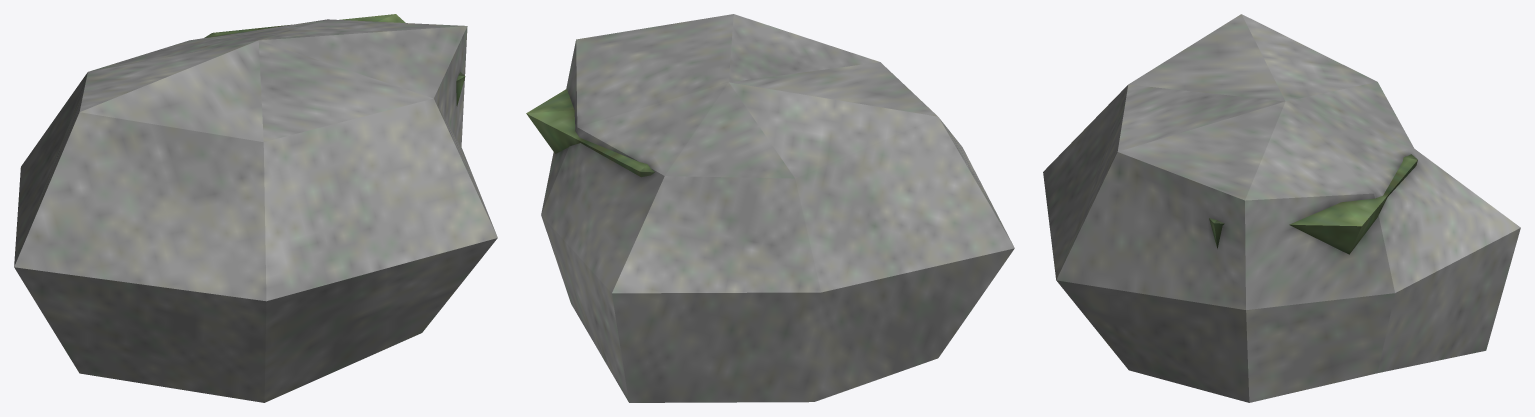
Rendered from SM_Rock_A.fbx.
The picture shows the model from 3 angles, left to right: view 1: azimuth 30°, elevation 25°; view 2: azimuth 150°, elevation 25°; view 3: azimuth 270°, elevation 25°; orthographic projection. The views are drawn at different scales.
Visible parts, largest first — view 1: SM_Rock_A; view 2: SM_Rock_A; view 3: SM_Rock_A.
Boxes of the visible parts, x1,y1,x2,y2 form: SM_Rock_A: (14, 14, 497, 402); SM_Rock_A: (526, 14, 1014, 402); SM_Rock_A: (1043, 14, 1520, 402).
Bounding box in the file's own units: 302 × 178 × 290.
1 material, 1 textured.
